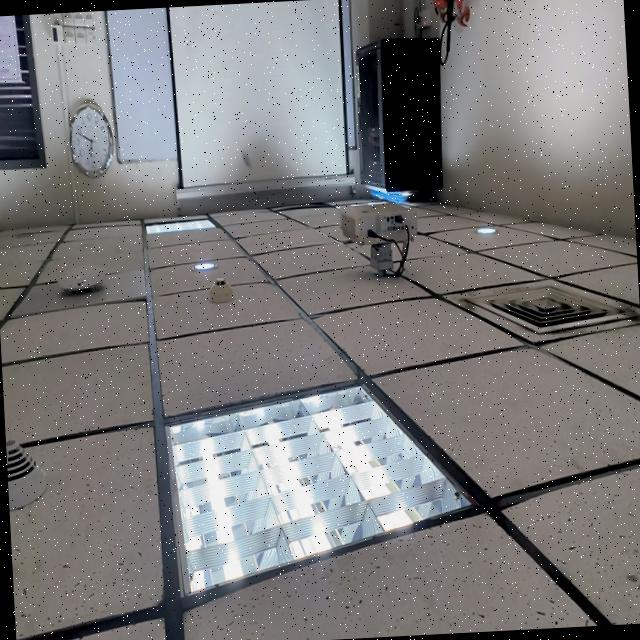Fire Extinguisher: (433, 0, 447, 16), (454, 0, 465, 12)
Light: (166, 382, 469, 596), (146, 216, 214, 234), (477, 226, 496, 236)
Projector: (340, 204, 418, 247), (371, 245, 393, 270)
